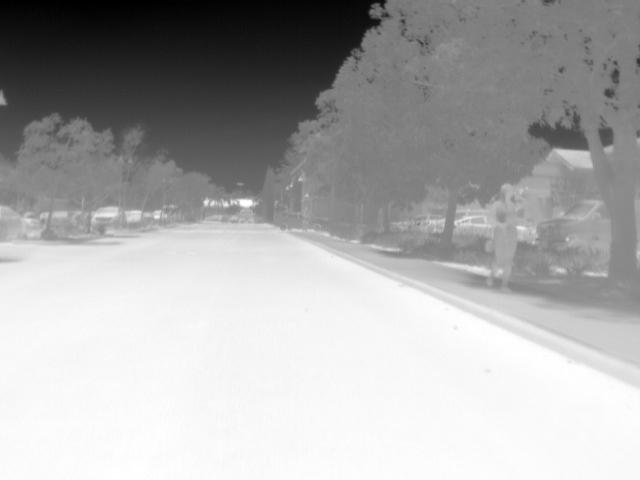car: (531, 198, 611, 254), (449, 212, 492, 233), (92, 206, 119, 231), (277, 211, 299, 231), (19, 211, 42, 230), (124, 208, 143, 229), (237, 207, 255, 224)
person: (484, 182, 527, 290), (299, 209, 311, 231)
